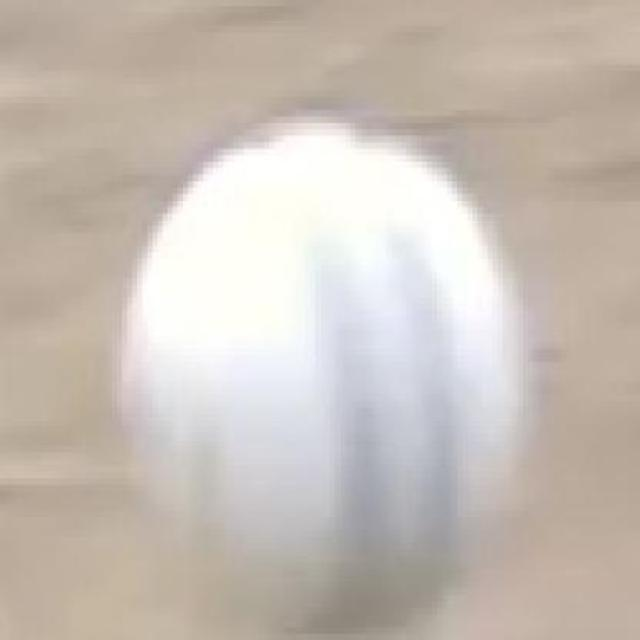Cricket ball: (108, 101, 544, 640)
